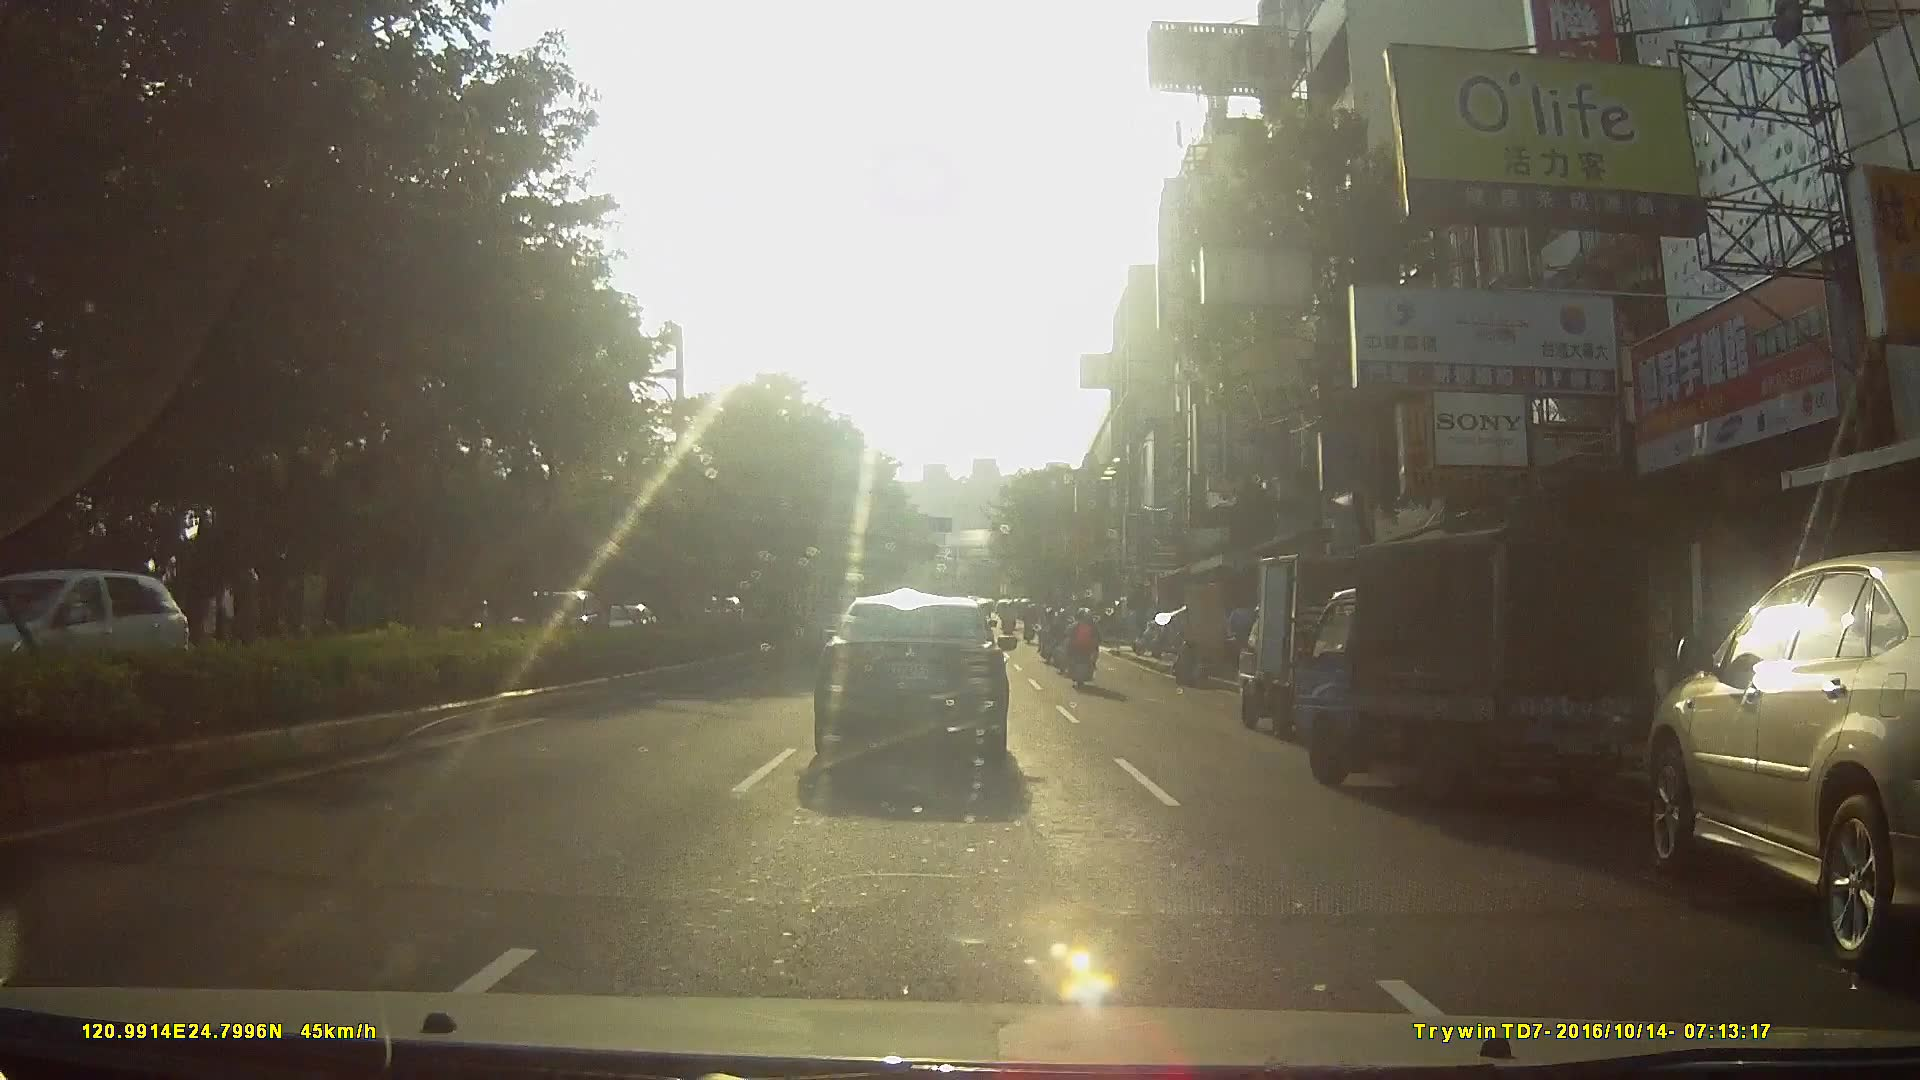rider: (1059, 607, 1102, 695), (1039, 606, 1060, 663)
vehicle: (1296, 510, 1707, 827), (1631, 548, 1920, 952), (1227, 542, 1450, 745), (812, 588, 1031, 781), (1, 565, 211, 688)
